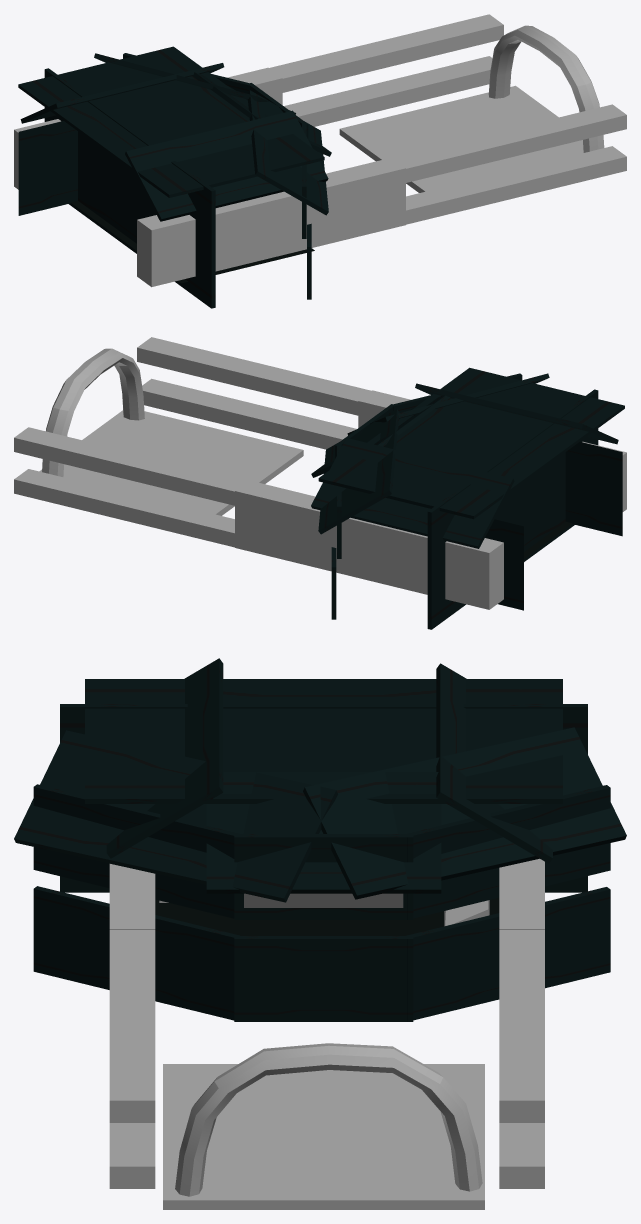
Rendered from Ship2.fbx.
3 views of the same model, one above another, from view 1: azimuth 30°, elevation 25°; view 2: azimuth 150°, elevation 25°; view 3: azimuth 270°, elevation 25° (orthographic). The views are drawn at different scales.
Visible parts, largest first — view 1: Ship:Cube_4_1, Ship:Arm_Right, pCube1, Ship:Cube_7_, Ship:Cube_4_, Ship:Cube_9_, Ship:Cube_5_, Ship:Cube_1_, Ship:Cube_2_, pPlane8, pCylinder1, Ship:Cube_10_ (+5 smaller); view 2: Ship:Cube_4_1, Ship:Arm_Left, pCube1, Ship:Cube_7_, Ship:Cube_1_, Ship:Cube_4_, Ship:Cube_8_, Ship:Cube_2_, Ship:Cube_5_, pPlane10, pCylinder1, Ship:Cube_11_ (+6 smaller); view 3: Ship:Cube_4_1, pCube1, Ship:Cube_10_, Ship:Cube_11_, Ship:Cube, Ship:Cube_1_1, Ship:Cube_2_1, pCylinder1, Ship:Cube_3_, Ship:Cube_4_, Cube_2_1, Ship:Cube_1_ (+12 smaller).
Part boxes in pixels (x1,y1,x2,y2): Ship:Cube_4_1: [18, 46, 324, 197]; Ship:Arm_Right: [137, 157, 405, 287]; pCube1: [339, 85, 583, 192]; Ship:Cube_7_: [44, 68, 215, 308]; Ship:Cube_4_: [372, 104, 626, 190]; Ship:Cube_9_: [125, 110, 328, 221]; Ship:Cube_5_: [372, 146, 626, 232]; Ship:Cube_1_: [256, 14, 503, 95]; Ship:Cube_2_: [284, 56, 492, 126]; pPlane8: [18, 121, 77, 215]; pCylinder1: [488, 25, 604, 152]; Ship:Cube_10_: [247, 90, 328, 215]; Ship:Cube_4_1: [318, 367, 624, 519]; Ship:Arm_Left: [235, 480, 503, 609]; pCube1: [39, 410, 303, 515]; Ship:Cube_7_: [427, 389, 598, 629]; Ship:Cube_1_: [14, 427, 268, 512]; Ship:Cube_4_: [137, 337, 384, 418]; Ship:Cube_8_: [311, 438, 514, 548]; Ship:Cube_2_: [14, 469, 234, 547]; Ship:Cube_5_: [142, 378, 356, 449]; pPlane10: [565, 442, 622, 536]; pCylinder1: [42, 348, 144, 476]; Ship:Cube_11_: [318, 409, 399, 534]; Ship:Cube_4_1: [85, 679, 562, 803]; pCube1: [163, 1064, 484, 1209]; Ship:Cube_10_: [14, 730, 337, 902]; Ship:Cube_11_: [303, 727, 626, 899]; Ship:Cube: [234, 936, 413, 1021]; Ship:Cube_1_1: [33, 886, 240, 1020]; Ship:Cube_2_1: [404, 887, 610, 1021]; pCylinder1: [175, 1043, 482, 1196]; Ship:Cube_3_: [206, 772, 441, 893]; Ship:Cube_4_: [109, 930, 155, 1122]; Cube_2_1: [406, 785, 610, 919]; Ship:Cube_1_: [499, 930, 544, 1122].
Bounding box in the file's own units: 19.87 × 5.2 × 13.39.
